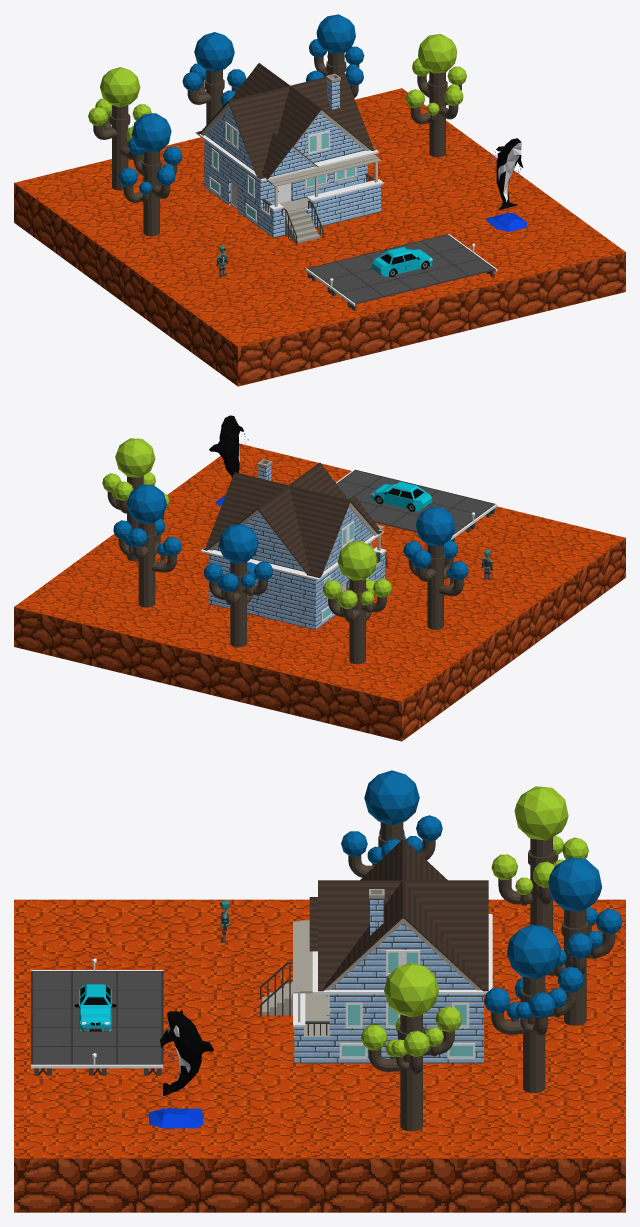
3 renders of one model, top to bottom at view 1: azimuth 30°, elevation 25°; view 2: azimuth 150°, elevation 25°; view 3: azimuth 270°, elevation 25°, orthographic. The views are drawn at different scales.
Visible parts, largest first — view 1: Cube.001, Cube.547, ANIMAL_ORCA, VEHICLES_CAR; view 2: Cube.001, Cube.547, VEHICLES_CAR, ANIMAL_ORCA; view 3: Cube.001, Cube.547, ANIMAL_ORCA, VEHICLES_CAR.
Boxes of the visible parts, x1,y1,x2,y2 form: Cube.001: [14, 14, 625, 386]; Cube.547: [195, 63, 383, 244]; ANIMAL_ORCA: [485, 138, 527, 231]; VEHICLES_CAR: [371, 247, 432, 276]; Cube.001: [14, 438, 625, 741]; Cube.547: [200, 459, 387, 629]; VEHICLES_CAR: [371, 481, 432, 511]; ANIMAL_ORCA: [209, 415, 248, 505]; Cube.001: [14, 770, 625, 1212]; Cube.547: [260, 839, 492, 1063]; ANIMAL_ORCA: [148, 1010, 213, 1128]; VEHICLES_CAR: [74, 984, 116, 1031].
Bounding box in the file's own units: 4000 × 1687 × 4000.
Materials: 35 (6 with a texture image).
